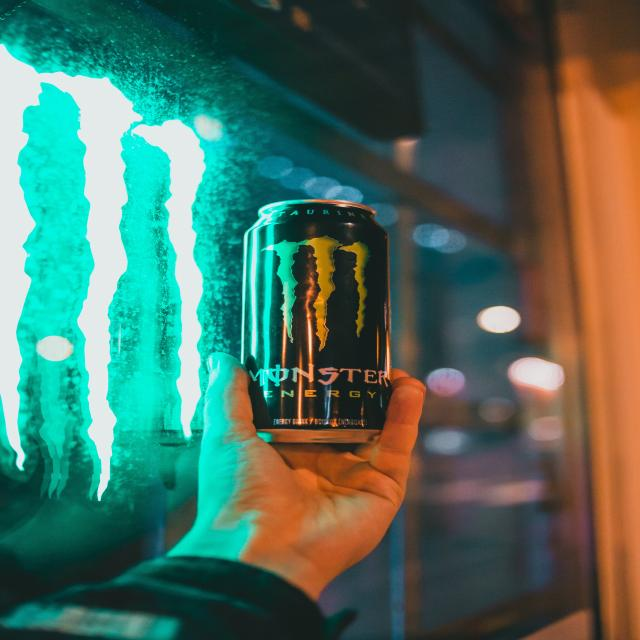can: (240, 198, 397, 446)
